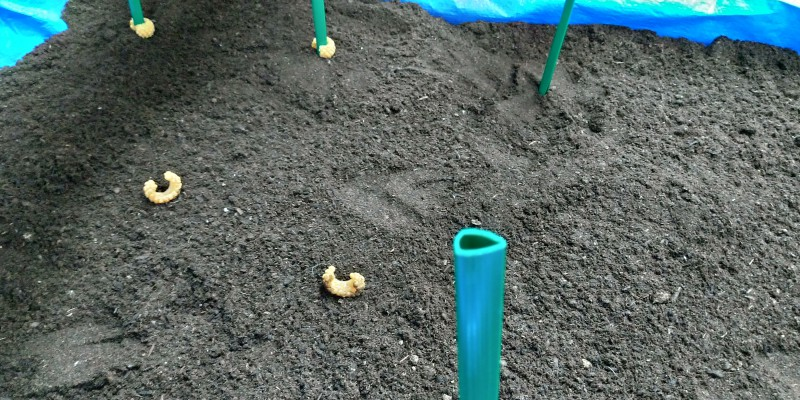eggs: (319, 263, 372, 302), (139, 167, 184, 204), (308, 31, 340, 63), (122, 14, 157, 41)
